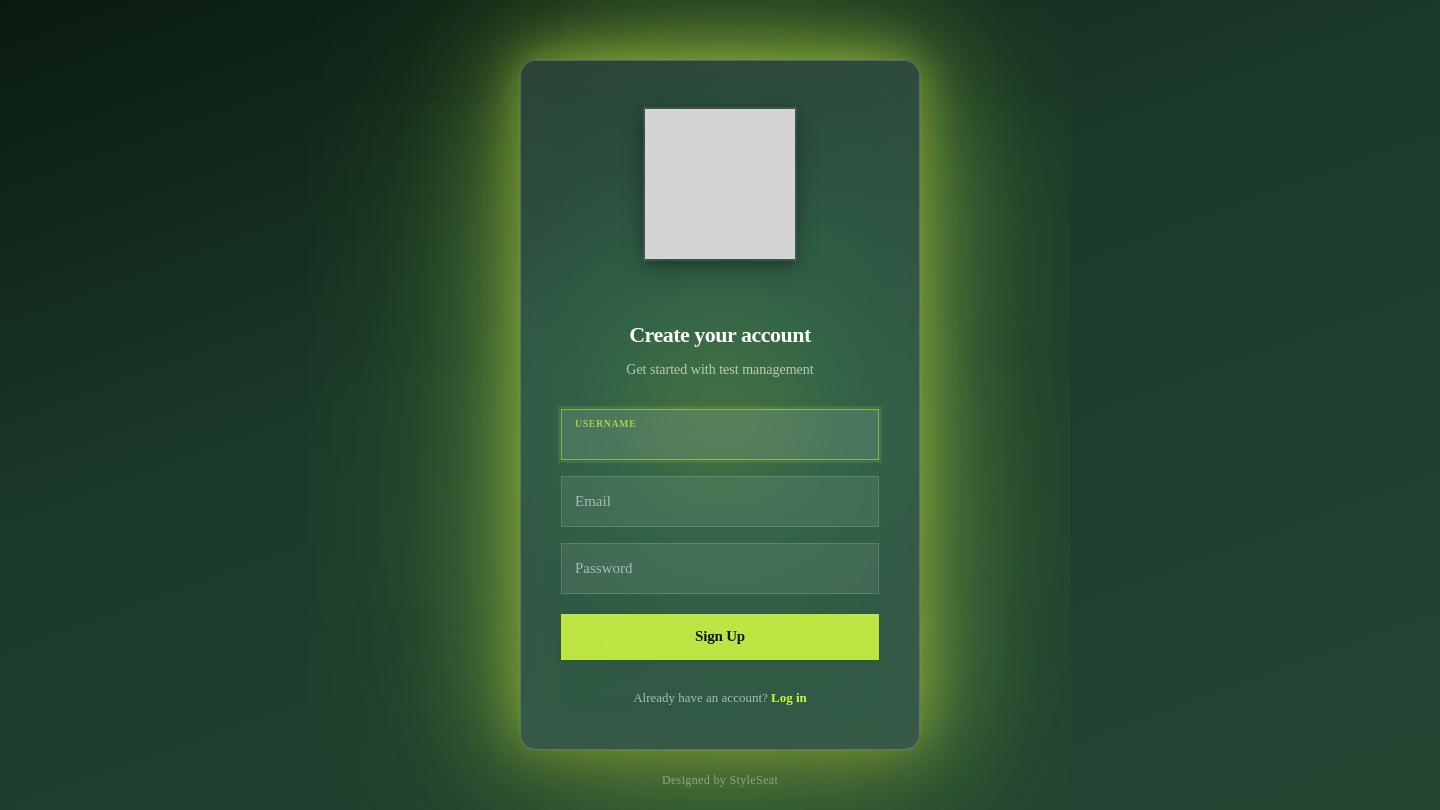
Test: RegisterPage › shows loading state while submitting
The width and height of the screenshot is (1440, 810).
Type "newuser" into the field labelled "Username". click: (720, 434)
box: [561,409,879,460]
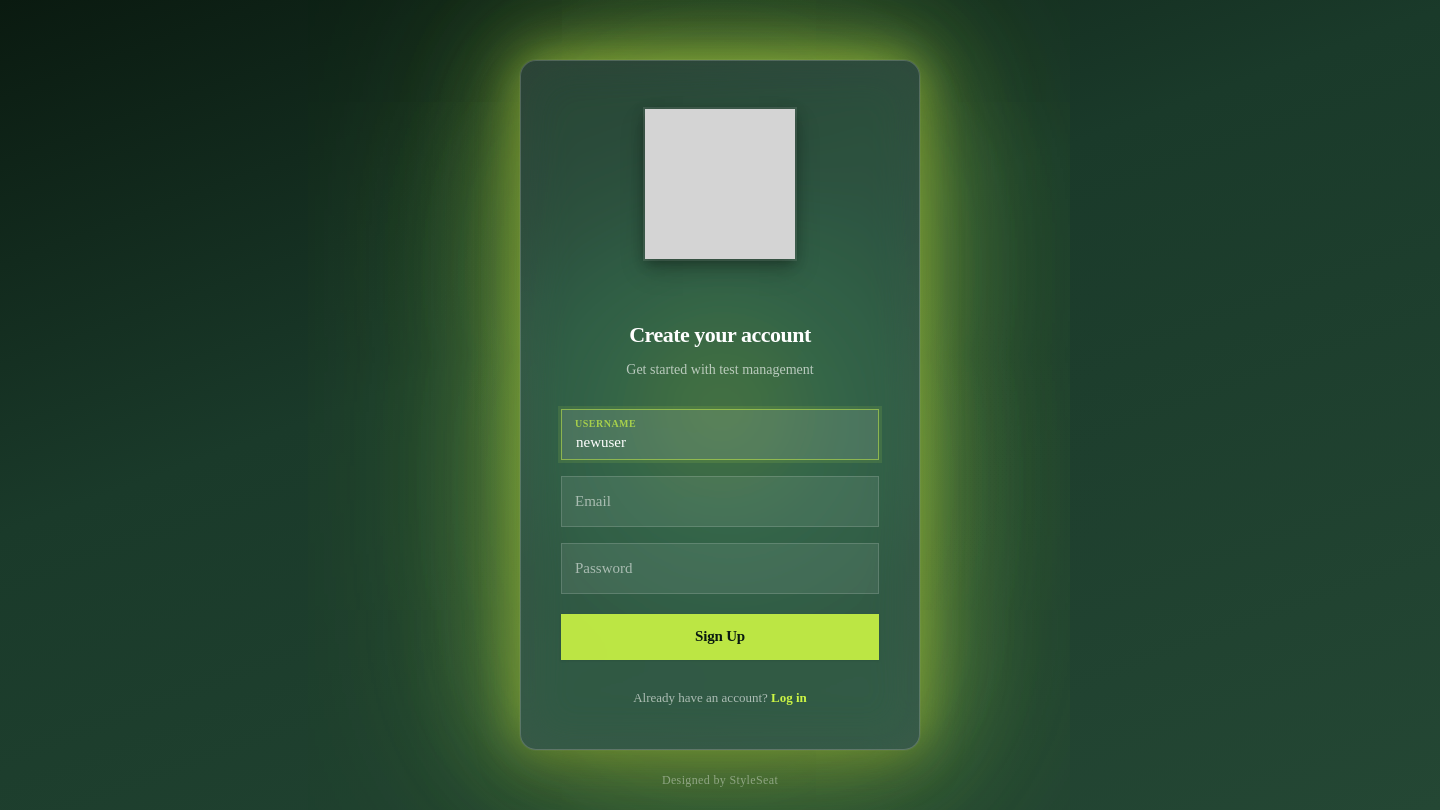
Type "new@styleseat.com" into the field labelled "Email". click: (720, 501)
box: [561,476,879,527]
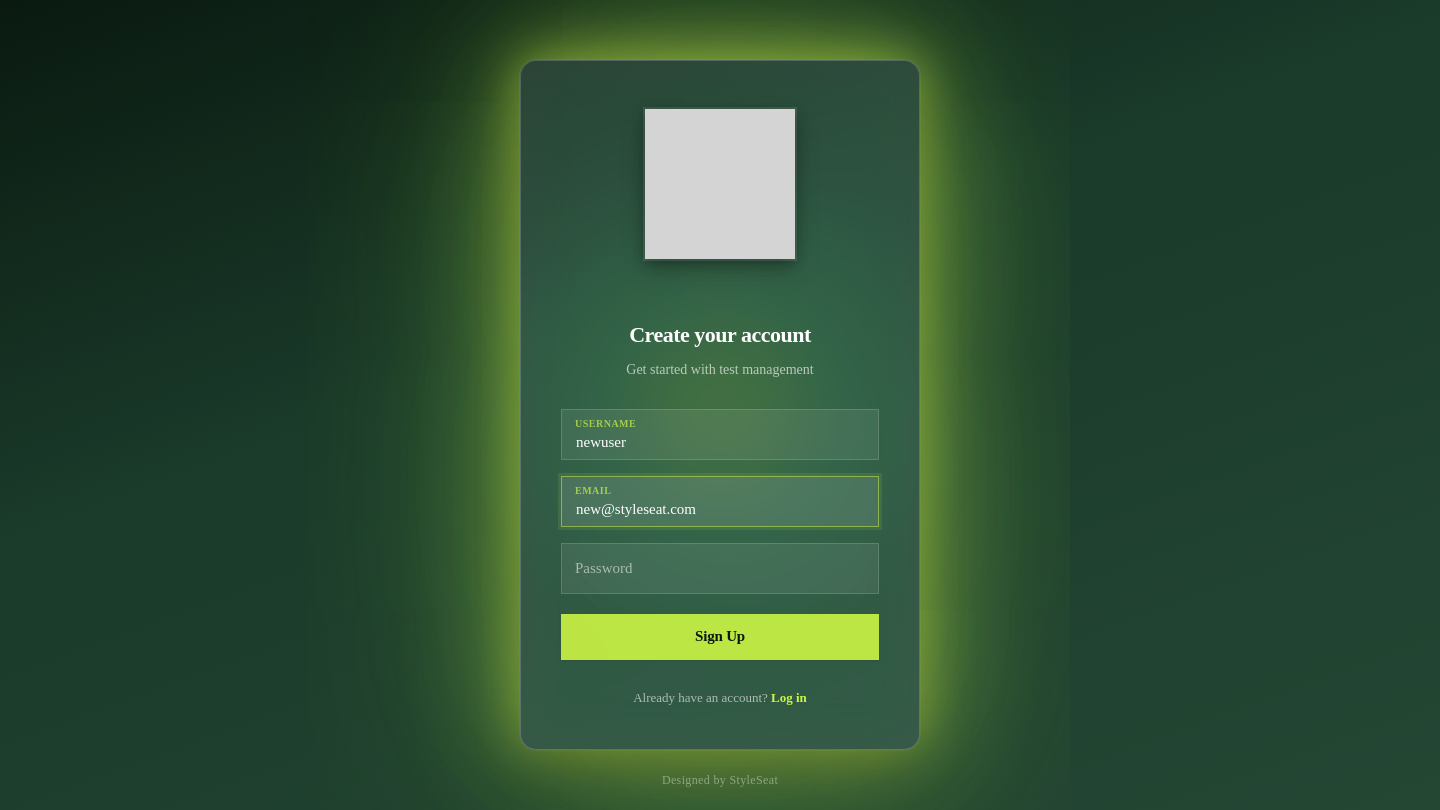
Type "Pass1234" into the password field labelled "Password". click: (720, 568)
box: [561,543,879,594]
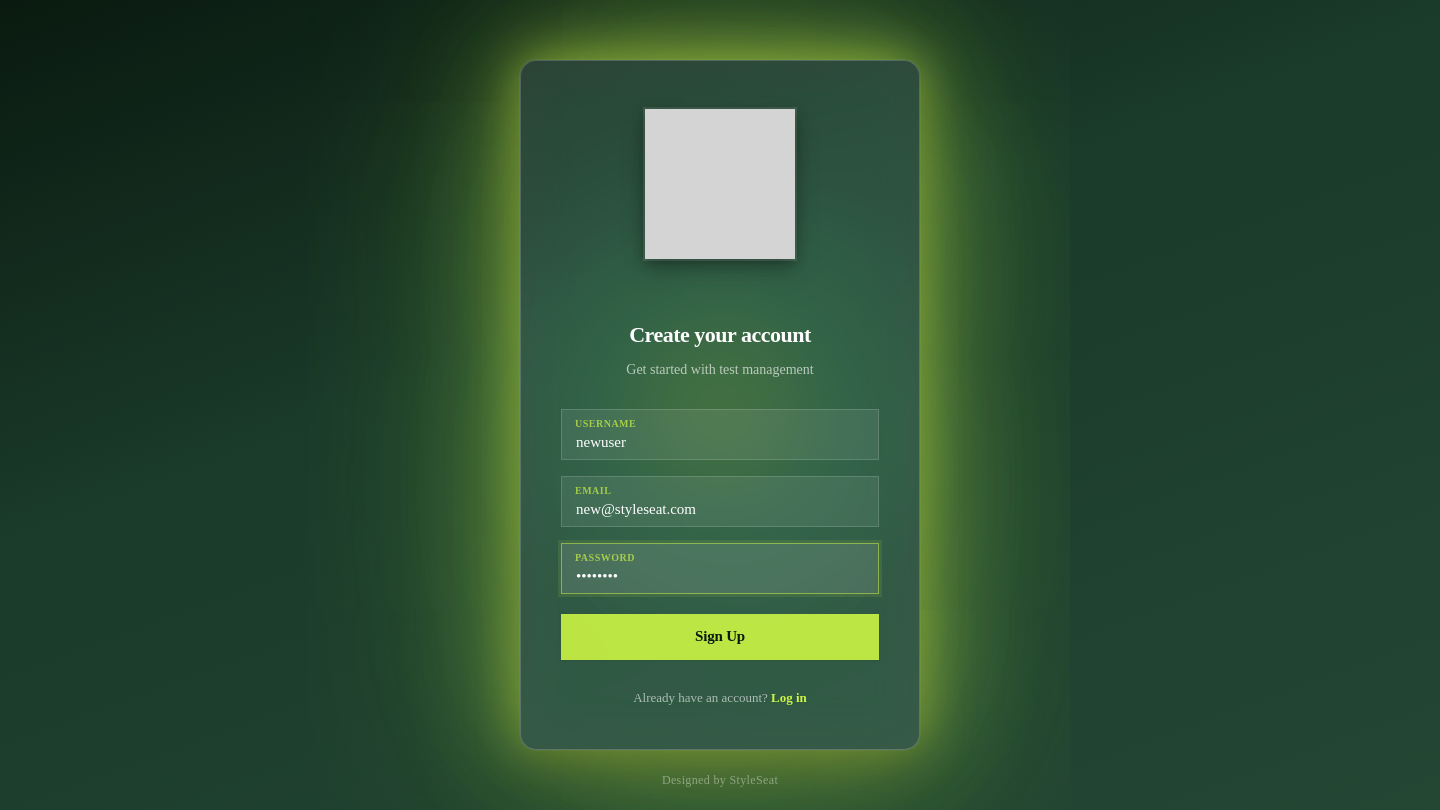
Click the button "Sign Up". click: (720, 637)
box: [561,614,879,660]
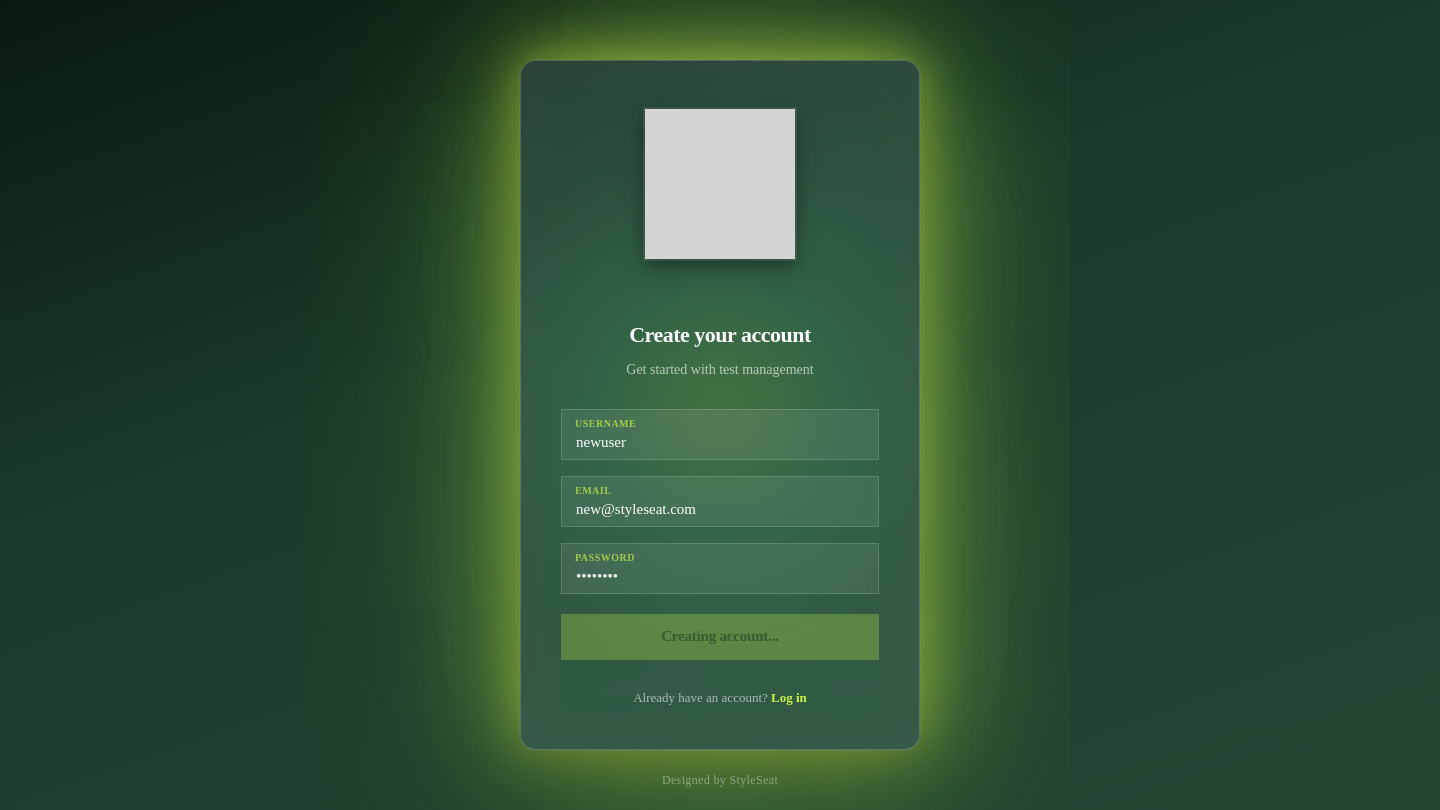
Result: the button "Creating account..." is disabled at [561,614,879,660]
